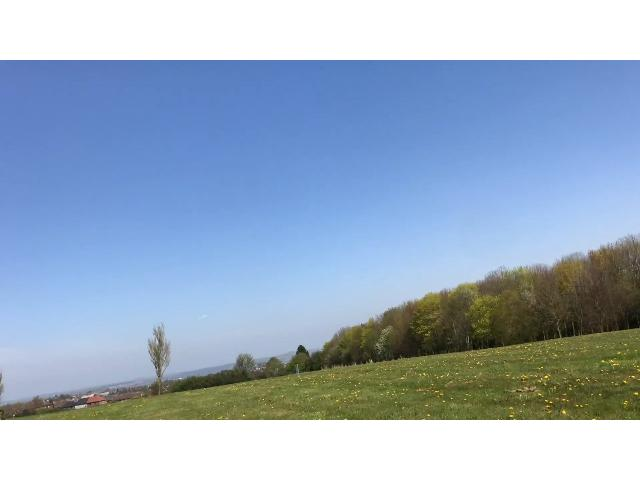Anti-Drone: (194, 310, 210, 326)
